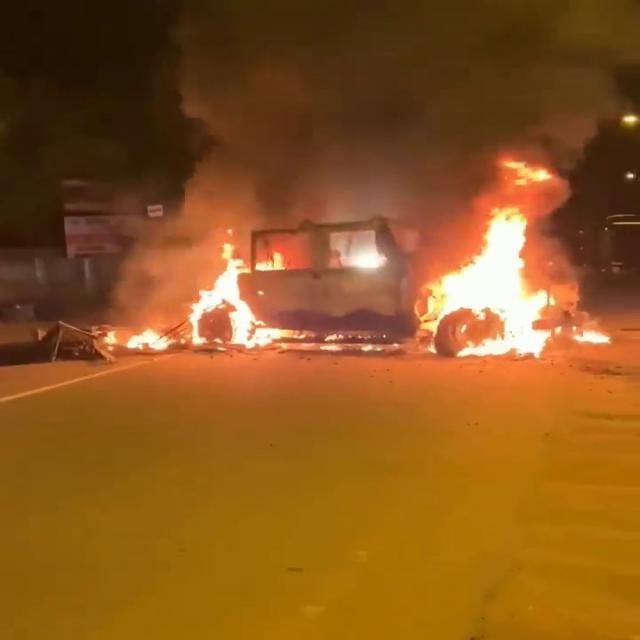Fire: (420, 207, 565, 359), (188, 244, 276, 347), (126, 329, 179, 352)
